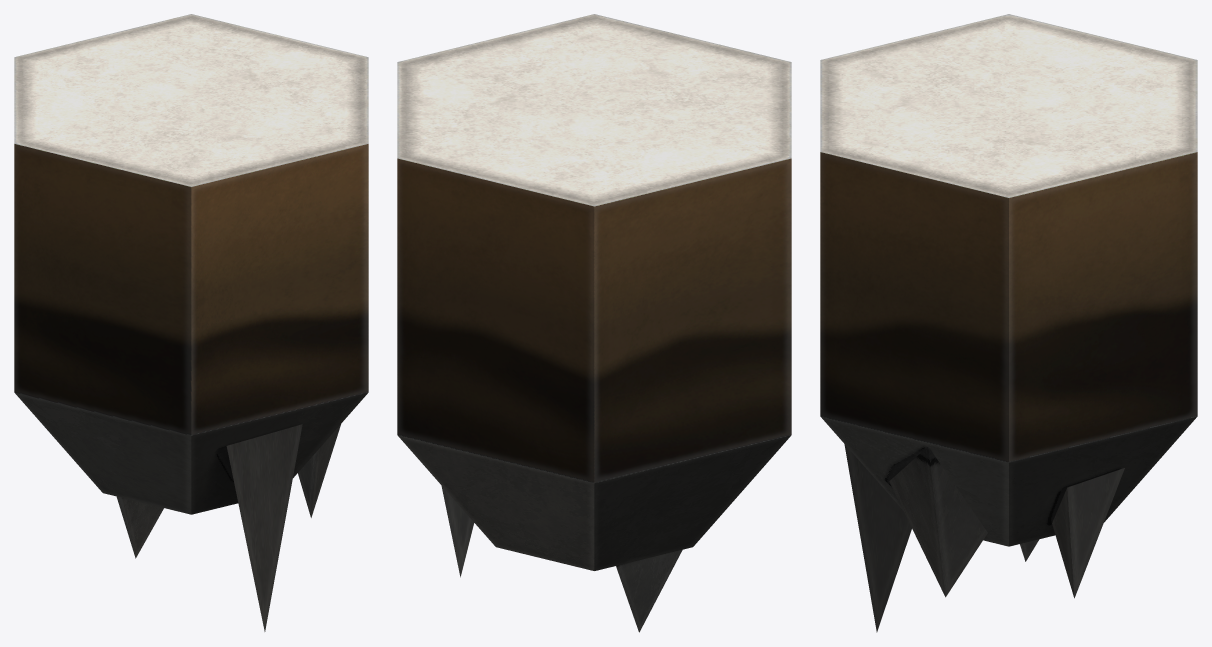
File: Hex_Snow.fbx
3 renders of one model, left to right at view 1: azimuth 30°, elevation 25°; view 2: azimuth 150°, elevation 25°; view 3: azimuth 270°, elevation 25°, orthographic. The views are drawn at different scales.
Visible parts, largest first — view 1: Hex_Snow; view 2: Hex_Snow; view 3: Hex_Snow.
Part boxes in pixels (x1,y1,x2,y2): Hex_Snow: (14, 14, 368, 631); Hex_Snow: (397, 14, 791, 632); Hex_Snow: (820, 14, 1197, 632).
Size of the model in its own units: 200 by 173 by 264.
